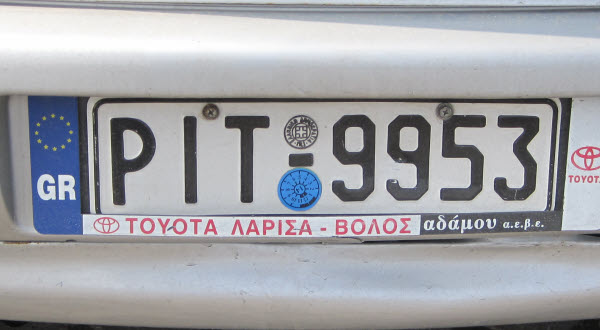license_plate: (88, 98, 560, 218)
